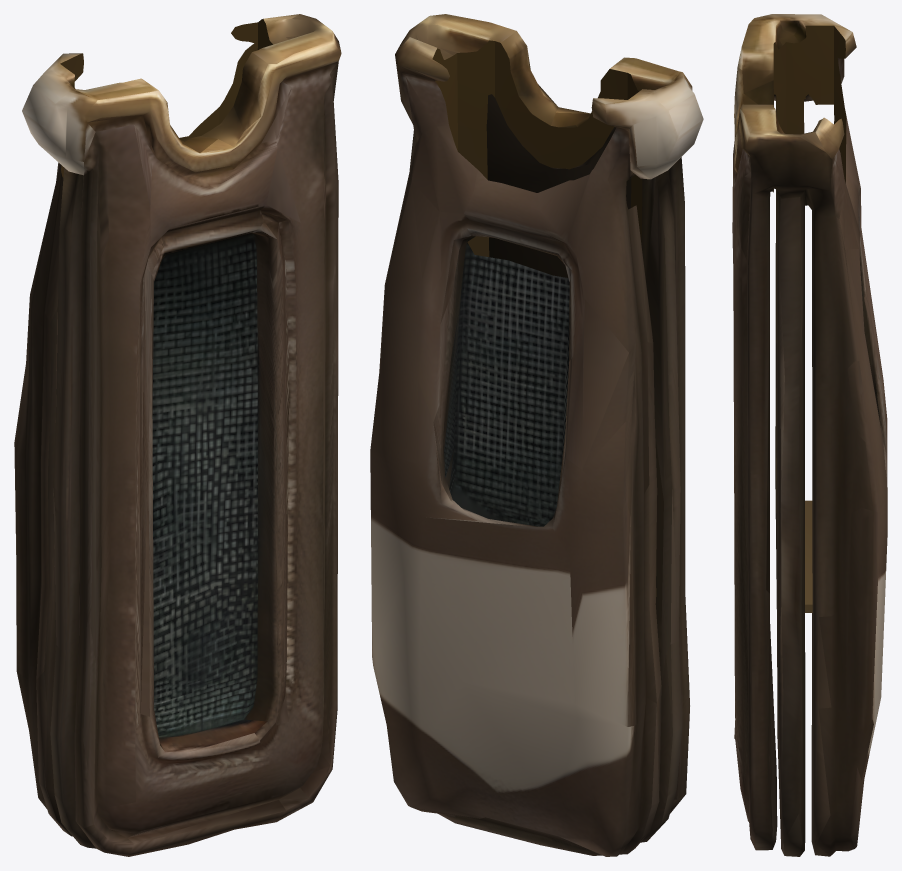
Rendered from FlatSleeve-game-v1.glb.
3 renders of one model, left to right at view 1: azimuth 30°, elevation 25°; view 2: azimuth 150°, elevation 25°; view 3: azimuth 270°, elevation 25°, orthographic. The views are drawn at different scales.
Parts seen in each view (by area): view 1: FlatSleeve; view 2: FlatSleeve; view 3: FlatSleeve.
Part boxes in pixels (x1=…): FlatSleeve: x1=14, y1=14, x2=341, y2=856; FlatSleeve: x1=370, y1=14, x2=703, y2=856; FlatSleeve: x1=732, y1=14, x2=887, y2=856.
Size of the model in its own units: 0.0349 by 0.0899 by 0.017.
Materials: 1 (1 with a texture image).
